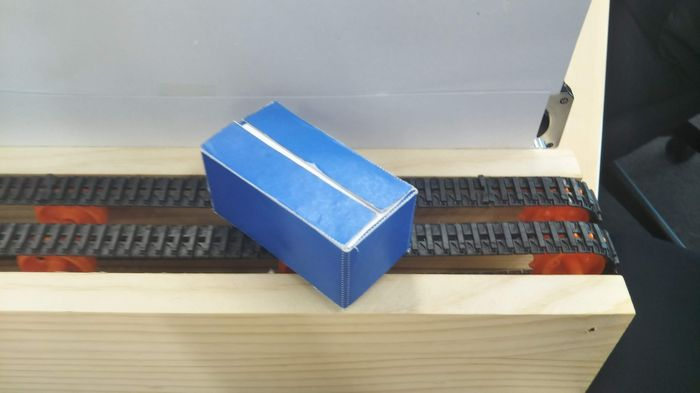box3: (195, 96, 419, 309)
